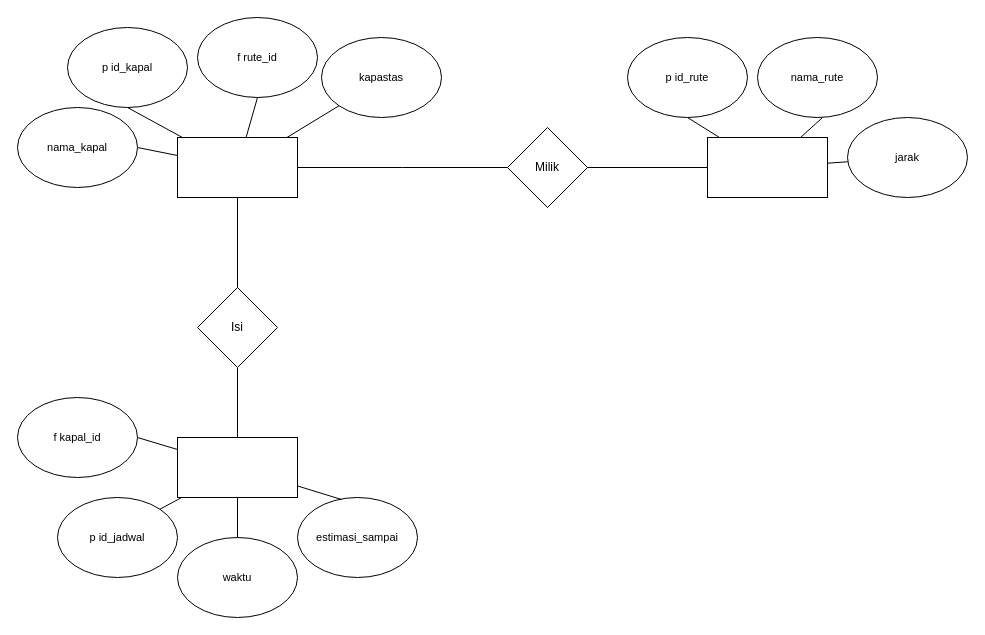
Some shapes in this 985 by 635 pixel diagram are drawn without their labels. The shapes that lost their labels are listed below. From the top down, each one's centre as x and y in pixels, then its label:
At point 237,167: "Kapal".
At point 767,167: "Rute".
At point 237,467: "Jadwal".
